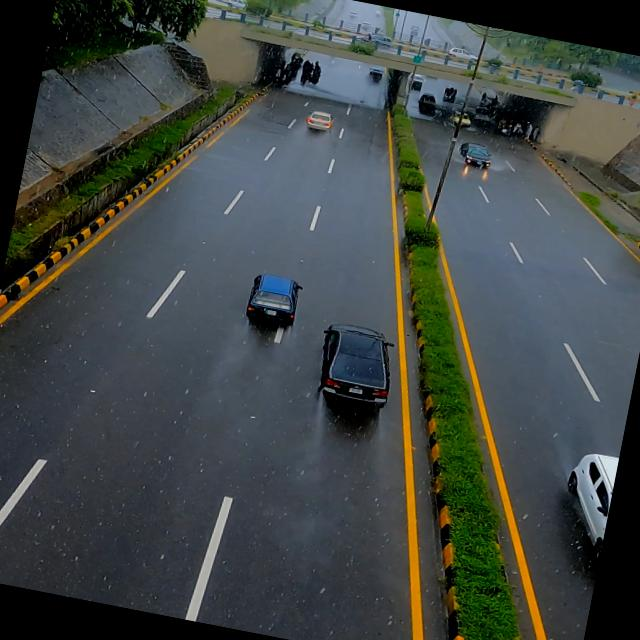Vehicle: (306, 314, 411, 422), (240, 268, 310, 334), (452, 137, 498, 173), (303, 104, 340, 138)
